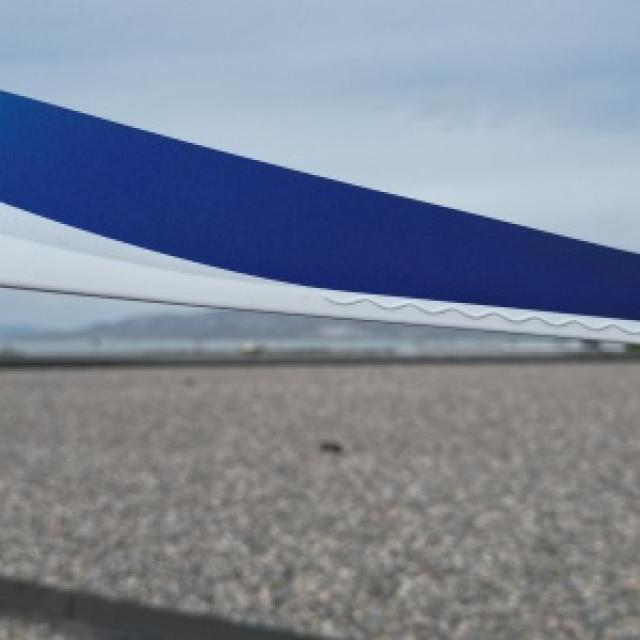healthy: (0, 90, 638, 356)
